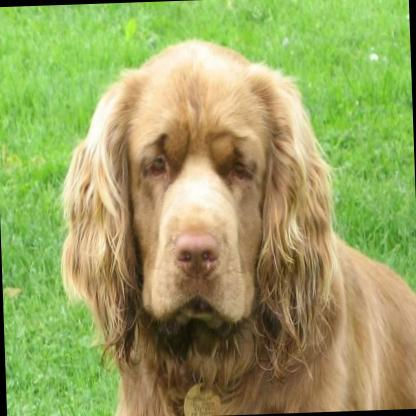Sussex_spaniel: (50, 27, 416, 416)
